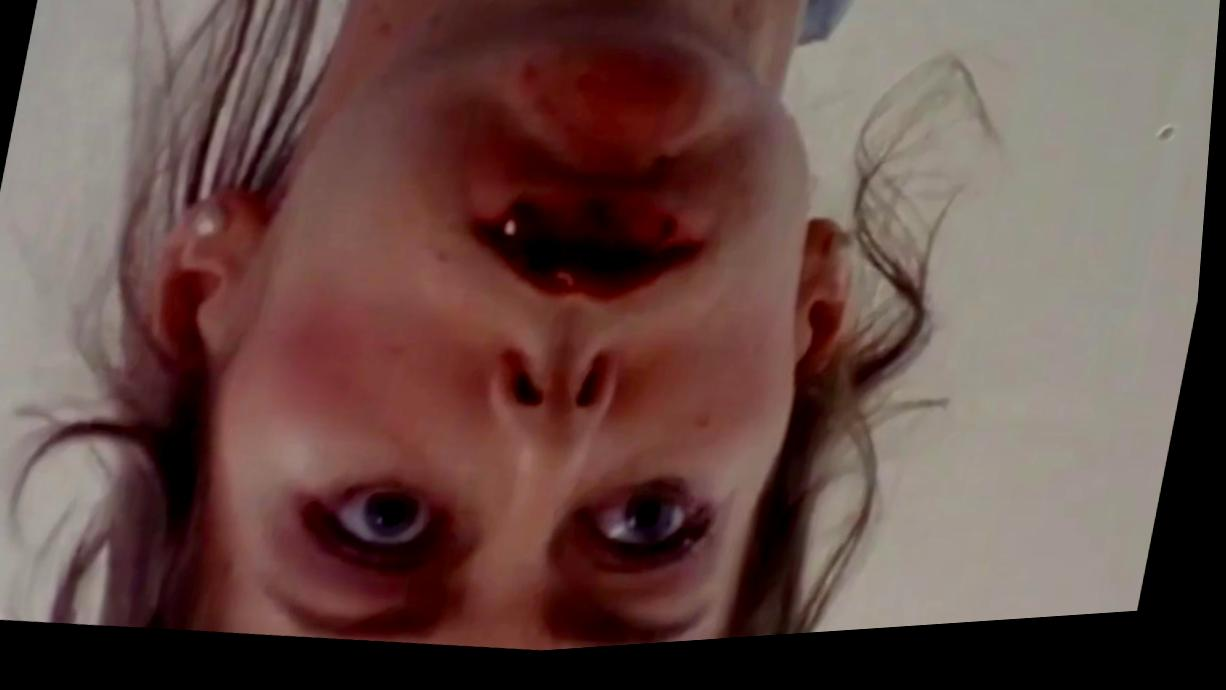Fire: (508, 208, 689, 286)
